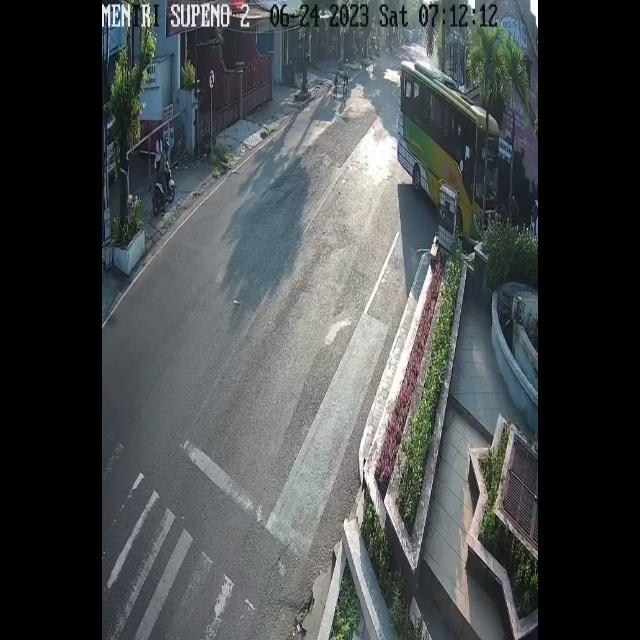bus: (152, 162, 174, 217)
car: (399, 56, 500, 255)
